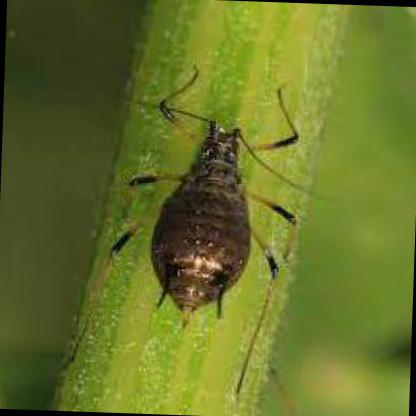uroleucon compositae: (112, 122, 299, 327)
